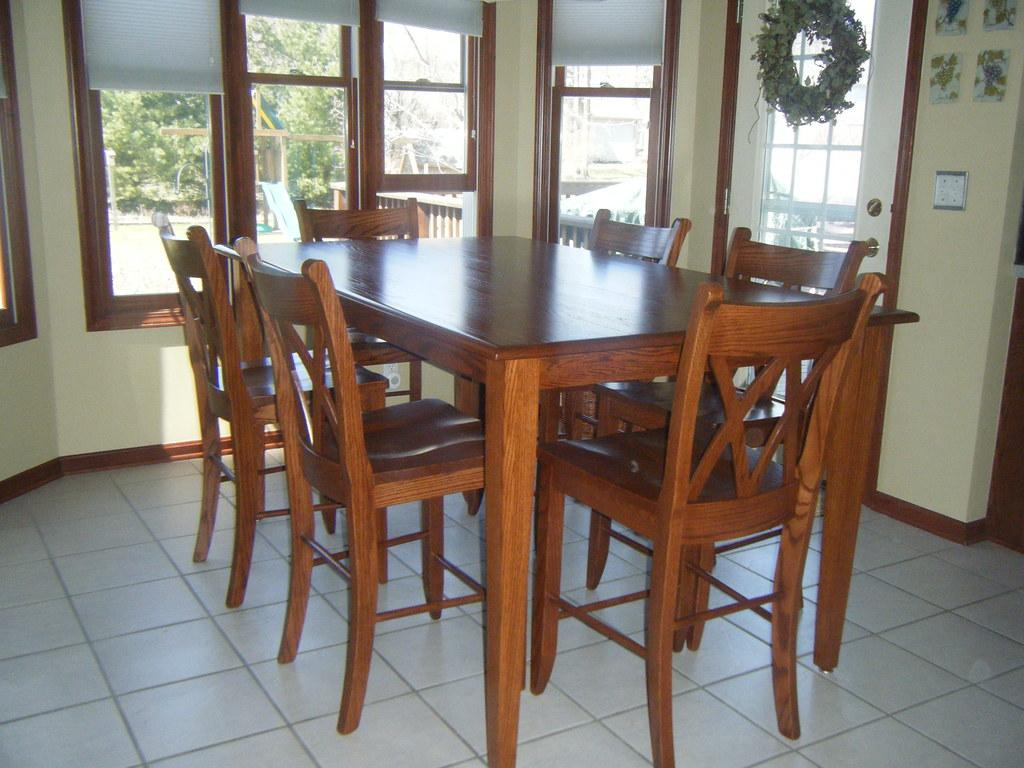table: (203, 211, 934, 768)
